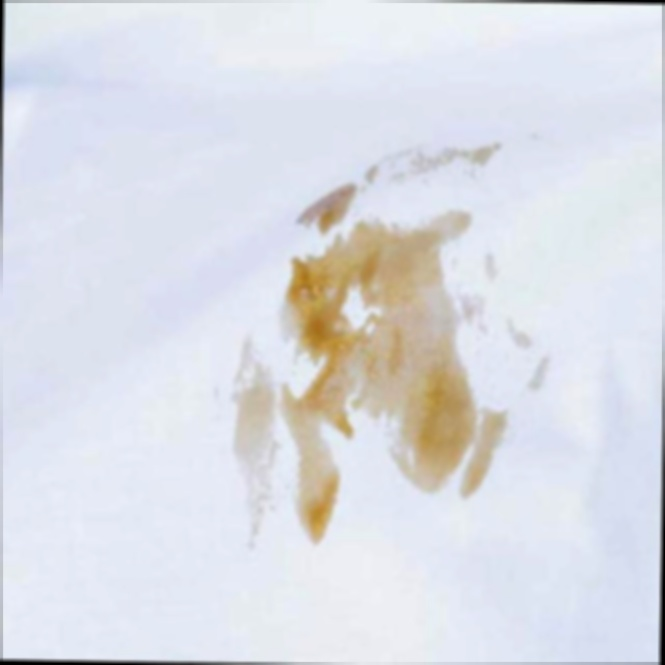coffee: (288, 205, 489, 542), (228, 340, 277, 540)
